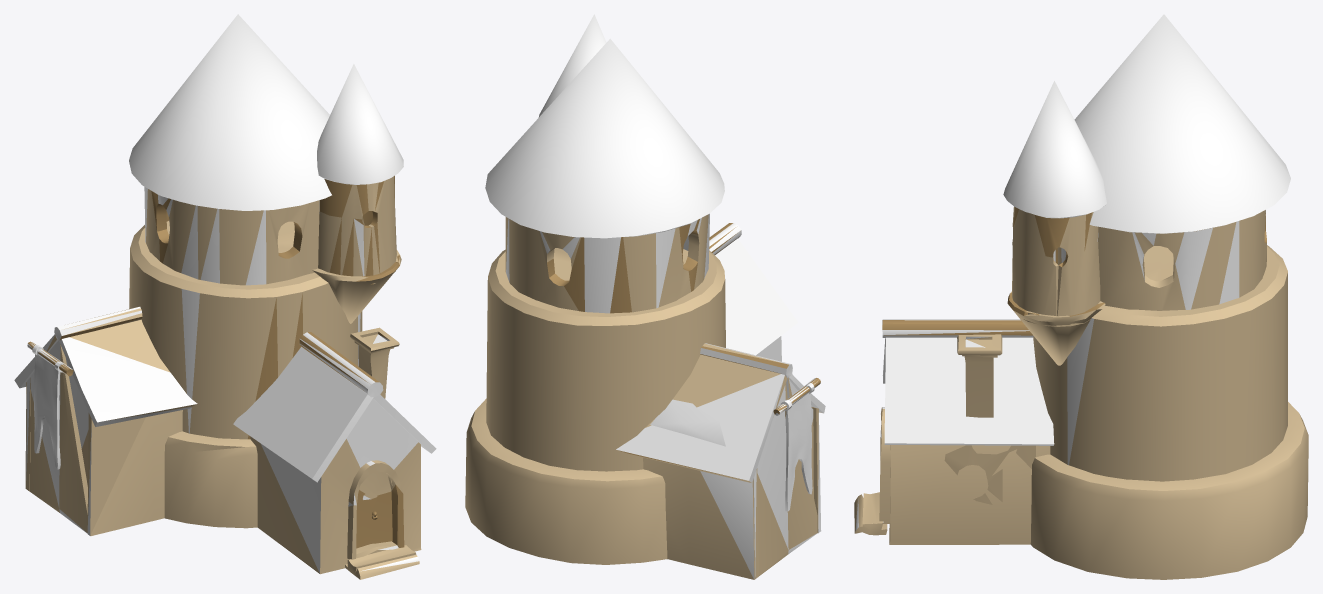
File: castle.glb
3 views of the same model, side by side, from view 1: azimuth 30°, elevation 25°; view 2: azimuth 150°, elevation 25°; view 3: azimuth 270°, elevation 25° (orthographic). The views are drawn at different scales.
Parts seen in each view (by area): view 1: castle; view 2: castle; view 3: castle.
Boxes of the visible parts, x1,y1,x2,y2 form: castle: (14, 14, 436, 579); castle: (465, 14, 825, 579); castle: (854, 14, 1308, 579).
Size of the model in its own units: 2.52 by 3.52 by 2.9.
